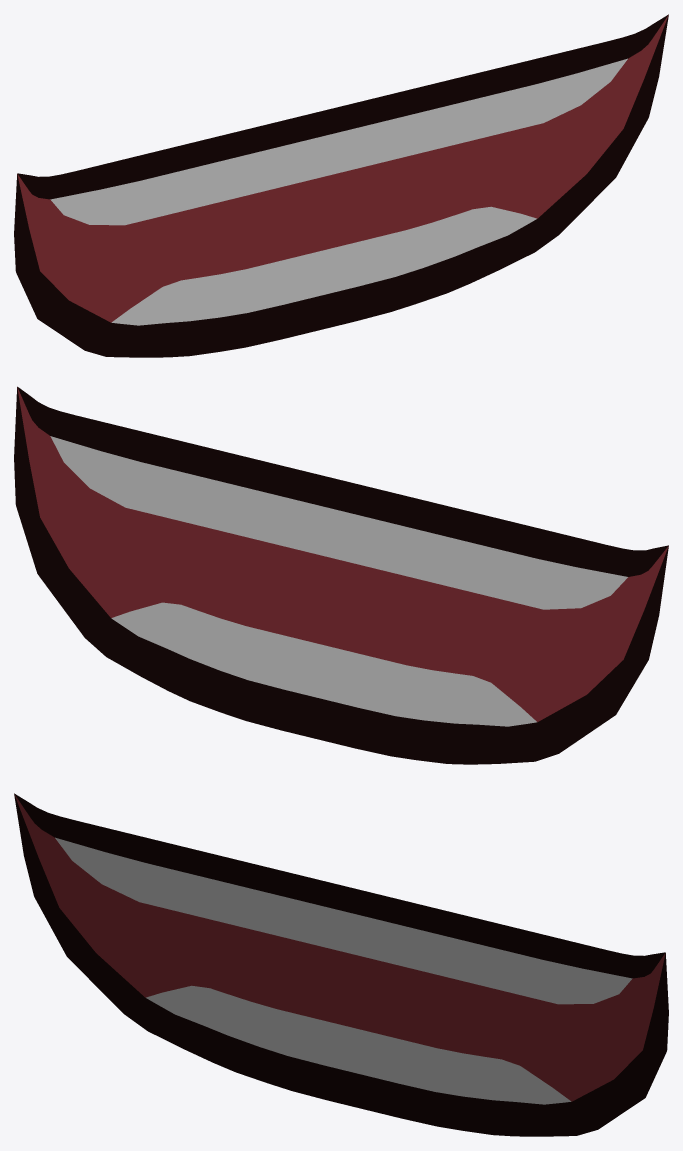
The model's file is flip_e.glb.
3 renders of one model, top to bottom at view 1: azimuth 30°, elevation 25°; view 2: azimuth 150°, elevation 25°; view 3: azimuth 330°, elevation 25°, orthographic.
Parts seen in each view (by area): view 1: flip_e; view 2: flip_e; view 3: flip_e.
Boxes of the visible parts, left/top/right/bottom form: flip_e: left=14, top=14, right=668, bottom=357; flip_e: left=14, top=386, right=668, bottom=764; flip_e: left=14, top=793, right=668, bottom=1136.
Bounding box in the file's own units: 0.0797 × 0.0298 × 0.00531.
